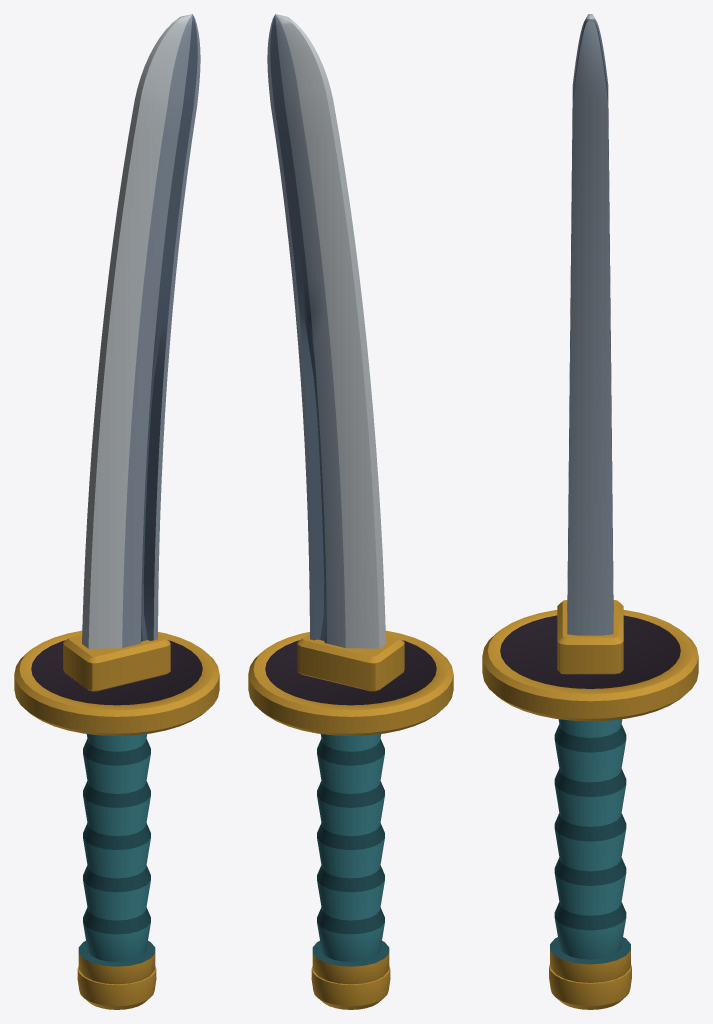
Rendered from Katana_18.glb.
3 renders of one model, left to right at view 1: azimuth 30°, elevation 25°; view 2: azimuth 150°, elevation 25°; view 3: azimuth 270°, elevation 25°, orthographic. The views are drawn at different scales.
Visible parts, largest first — view 1: Katana_18; view 2: Katana_18; view 3: Katana_18.
Part boxes in pixels (x1,y1,x2,y2): Katana_18: (14,14,219,1009); Katana_18: (248,14,453,1009); Katana_18: (482,14,698,1009).
Bounding box in the file's own units: 1.22 × 6.35 × 1.22.
